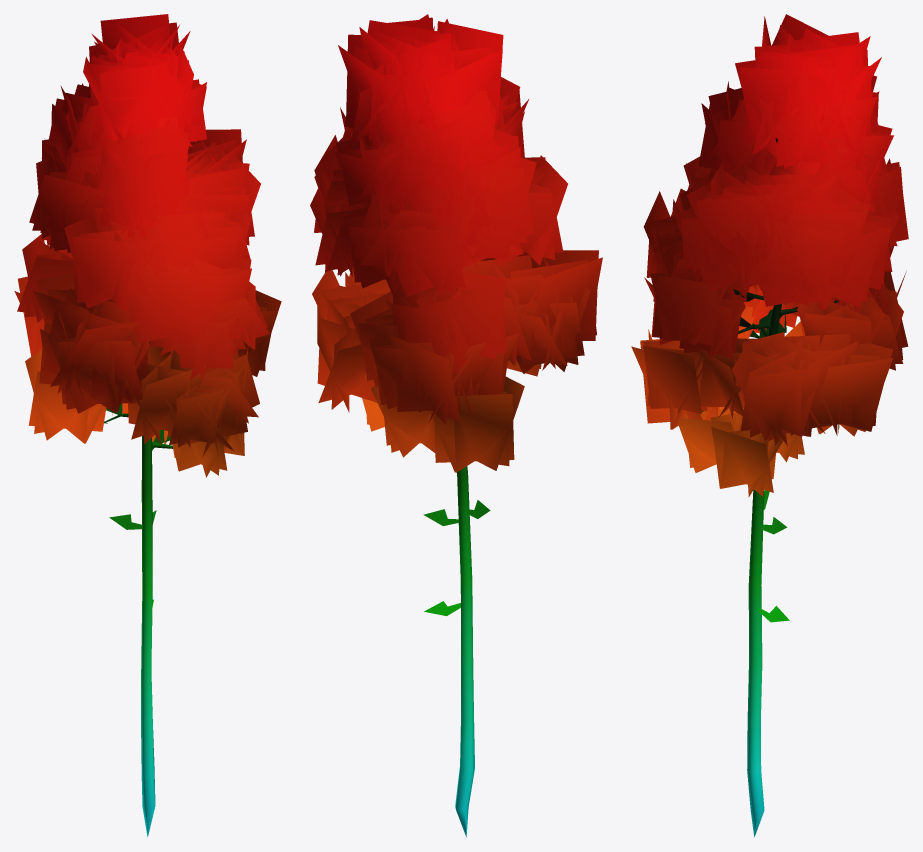
The model's file is Pine4.fbx.
3 renders of one model, left to right at view 1: azimuth 30°, elevation 25°; view 2: azimuth 150°, elevation 25°; view 3: azimuth 270°, elevation 25°, orthographic. The views are drawn at different scales.
Visible parts, largest first — view 1: Pine4_LOD0; view 2: Pine4_LOD0; view 3: Pine4_LOD0.
Part boxes in pixels (x1,y1,x2,y2): Pine4_LOD0: (14,14,281,836); Pine4_LOD0: (310,14,602,837); Pine4_LOD0: (631,14,908,837).
Size of what is drawn, in the model's own units: 321 by 994 by 308.
